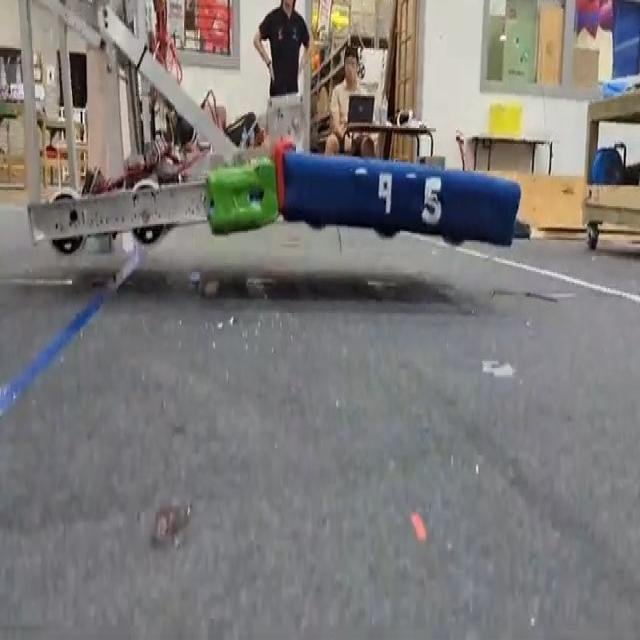note: (615, 0, 640, 107), (564, 0, 632, 35)
